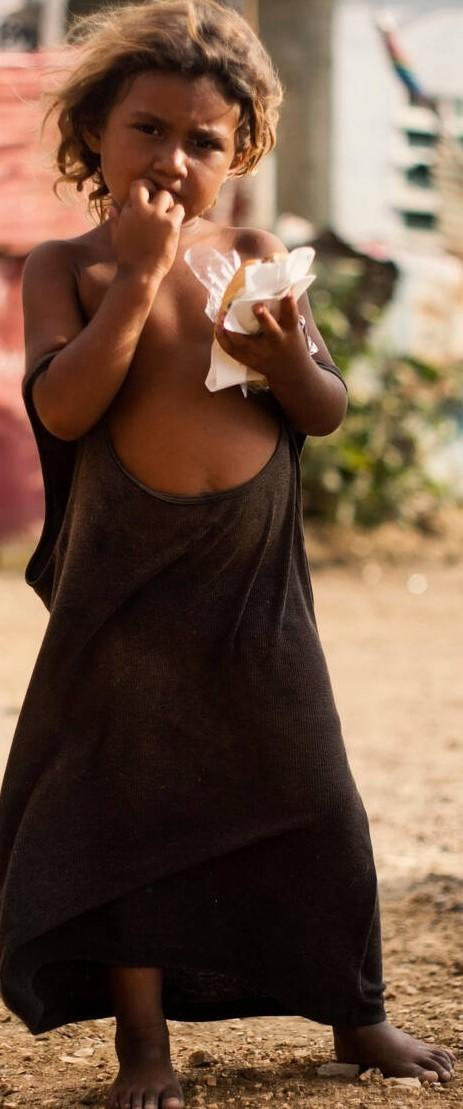MalNutrisi: (0, 33, 343, 350)
